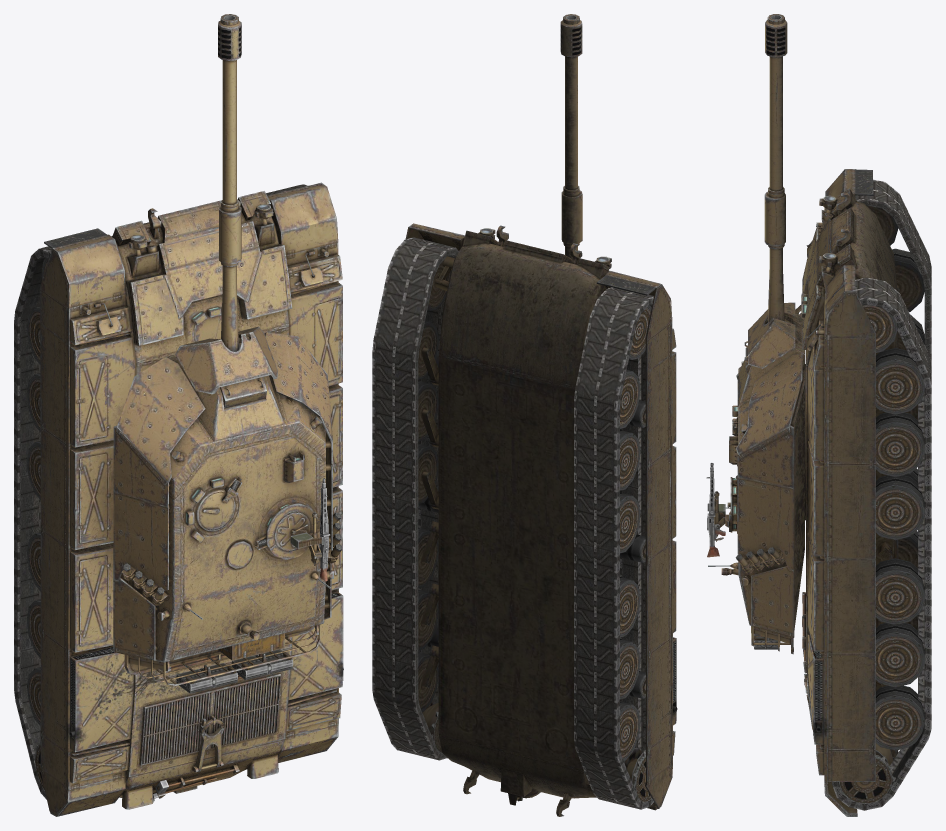
The picture shows the model from 3 angles, left to right: view 1: azimuth 30°, elevation 25°; view 2: azimuth 150°, elevation 25°; view 3: azimuth 270°, elevation 25°; orthographic projection. The views are drawn at different scales.
Visible parts, largest first — view 1: hull, turret_01, chassis_track_L, gun_01, gun_01_mask, chassis_wheel_L_07, chassis_wheel_L_02, chassis_wheel_L_05, chassis_wheel_L_08, chassis_wheel_L_04, chassis_wheel_L_10; view 2: hull, chassis_track_L, chassis_track_R, gun_01, chassis_wheel_L_04, chassis_wheel_L_07, chassis_wheel_L_08, chassis_wheel_L_05, chassis_wheel_L_10, chassis_wheel_L_02, chassis_wheel_L_11, chassis_wheel_R_04 (+6 smaller); view 3: hull, turret_01, chassis_track_R, gun_01, chassis_wheel_R_10, chassis_wheel_R_07, chassis_wheel_R_05, chassis_wheel_R_08, chassis_wheel_R_04, chassis_track_L, chassis_wheel_R_02, gun_01_mask (+5 smaller).
Boxes of the visible parts, x1,y1,x2,y2 form: hull: (40,182,343,816); turret_01: (113,332,342,693); chassis_track_L: (14,246,51,799); gun_01: (218,14,241,351); gun_01_mask: (175,326,277,408); chassis_wheel_L_07: (27,532,40,591); chassis_wheel_L_02: (27,306,40,364); chassis_wheel_L_05: (27,441,40,499); chassis_wheel_L_08: (27,599,40,658); chassis_wheel_L_04: (27,373,40,431); chassis_wheel_L_10: (27,667,40,726); hull: (405,223,677,816); chassis_track_L: (574,287,653,809); chassis_track_R: (372,237,458,760); gun_01: (560,14,582,258); chassis_wheel_L_04: (620,430,640,490); chassis_wheel_L_07: (620,577,640,637); chassis_wheel_L_08: (620,639,640,699); chassis_wheel_L_05: (620,492,640,553); chassis_wheel_L_10: (620,701,640,761); chassis_wheel_L_02: (620,370,640,428); chassis_wheel_L_11: (624,748,651,802); chassis_wheel_R_04: (418,381,438,441); hull: (801,169,899,816); turret_01: (706,305,805,654); chassis_track_R: (832,277,931,810); gun_01: (764,14,787,322); chassis_wheel_R_10: (875,685,924,750); chassis_wheel_R_07: (876,558,924,624); chassis_wheel_R_05: (876,475,924,540); chassis_wheel_R_08: (875,623,924,687); chassis_wheel_R_04: (876,412,924,476); chassis_track_L: (855,179,931,364); chassis_wheel_R_02: (876,348,924,414); gun_01_mask: (744,302,802,373).
Size of the model in its own units: 3.48 by 9.85 by 2.67.
Materials: 2 (2 with a texture image).
